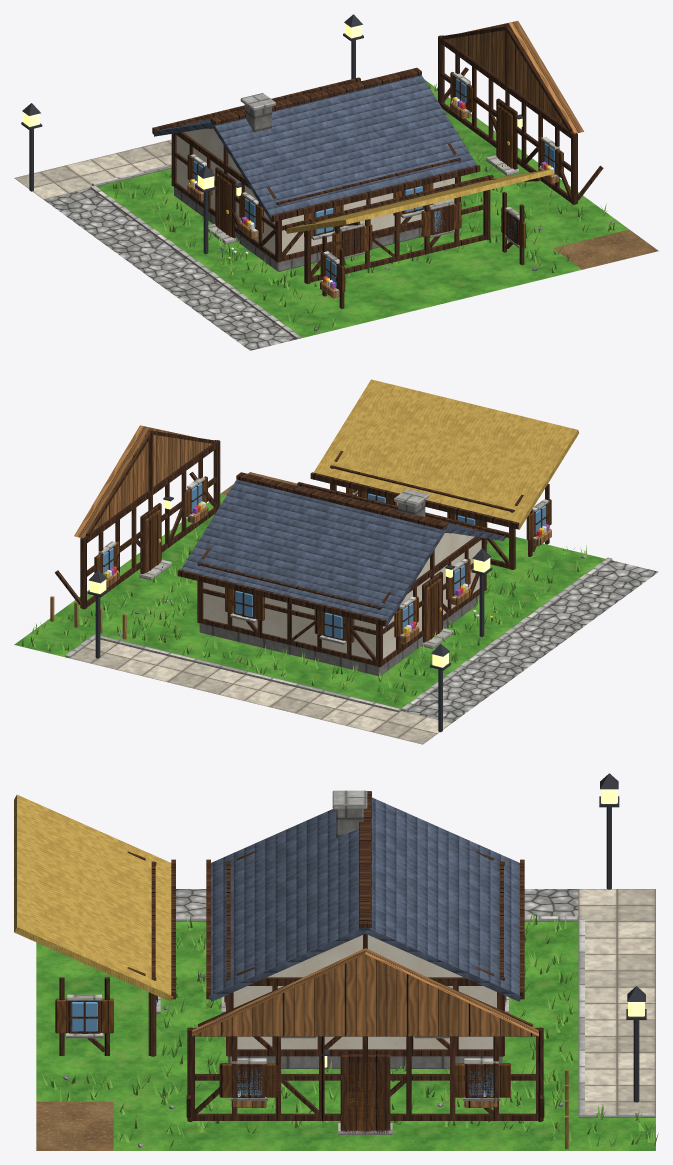
The model's file is chunk_2_9.glb.
3 views of the same model, one above another, from view 1: azimuth 30°, elevation 25°; view 2: azimuth 150°, elevation 25°; view 3: azimuth 270°, elevation 25° (orthographic). The views are drawn at different scales.
Parts seen in each view (by area): view 1: chunk_2_9; view 2: chunk_2_9; view 3: chunk_2_9.
Boxes of the visible parts, x1,y1,x2,y2 form: chunk_2_9: (14, 14, 658, 350); chunk_2_9: (14, 379, 658, 744); chunk_2_9: (14, 773, 658, 1150).
Bounding box in the file's own units: 16.34 × 5.37 × 16.65.
Materials: 25 (16 with a texture image).
